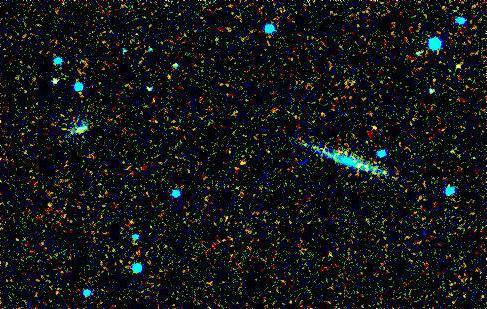star: (361, 112, 391, 142)
